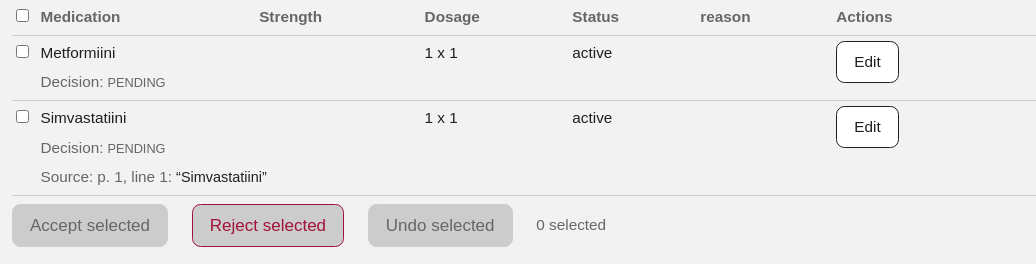
FactTable › leaves out the source row when a fact has no source, and ticks from any row
Click the text "Decision:" below "Metformiini".
click(70, 82)  # box left=40, top=73, right=103, bottom=90
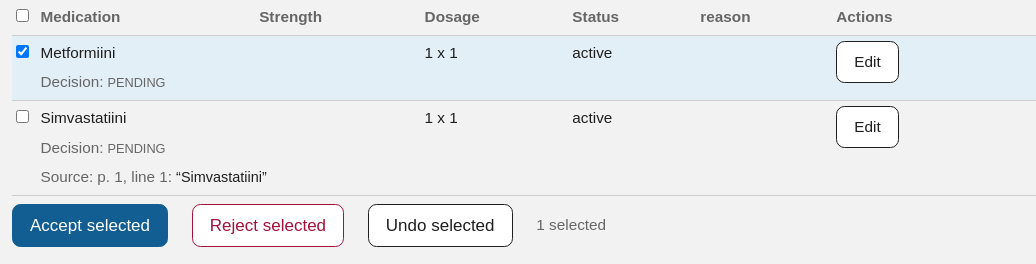
expect the checkbox named "Select Metformiini" is checked: met, box left=16, top=45, right=29, bottom=58
